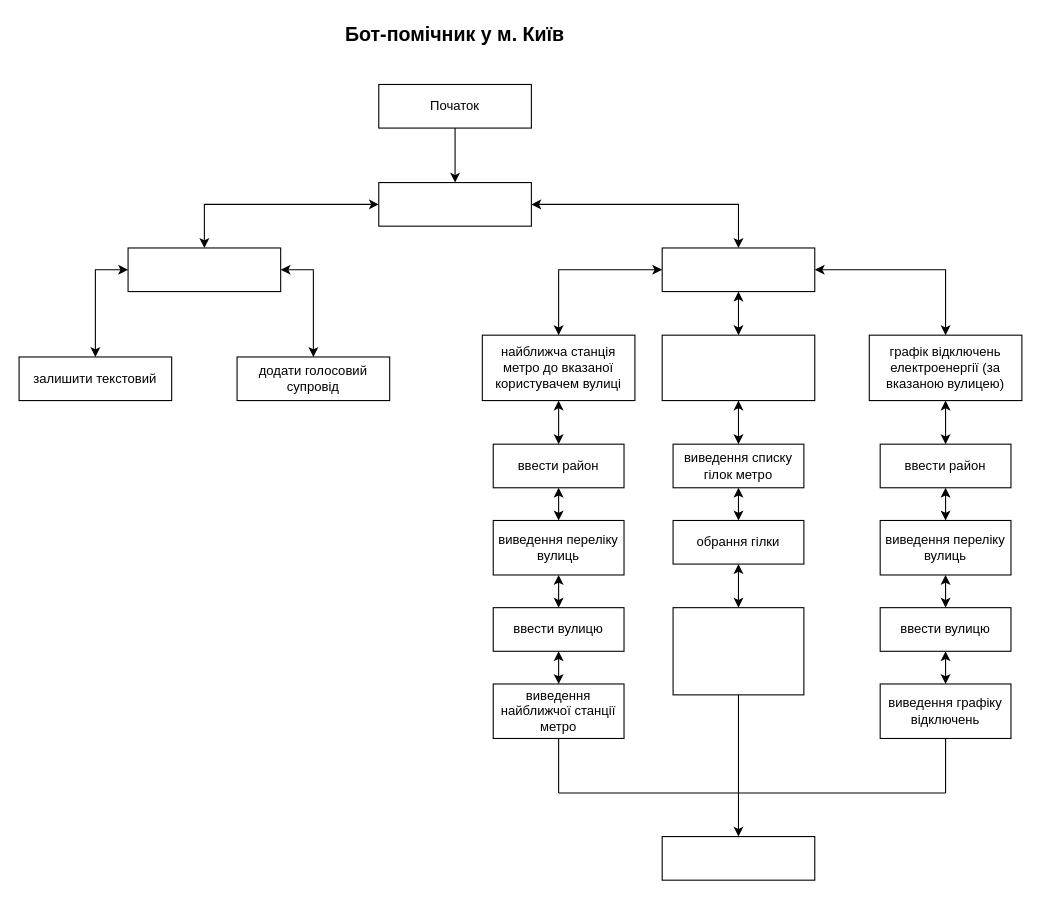
Some shapes in this 1041 by 899 pixel diagram are drawn without their labels. The centre of each missing label's shape, as x and y in pixels:
"виведення маршруту, який проводиться за даною гілкою" belongs at point (738, 651).
"Головне меню" belongs at point (454, 203).
"змінити спосіб виведення тексту" belongs at point (204, 269).
"перелік намірів" belongs at point (738, 269).
"Підтвердження" belongs at point (738, 857).
"список станцій метро за обраною гілкою" belongs at point (738, 367).
